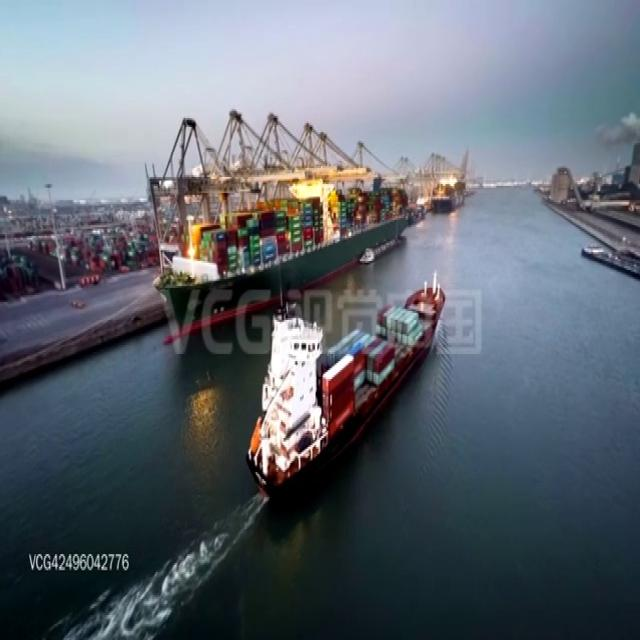cargoship: (130, 157, 425, 287), (252, 307, 466, 479)
